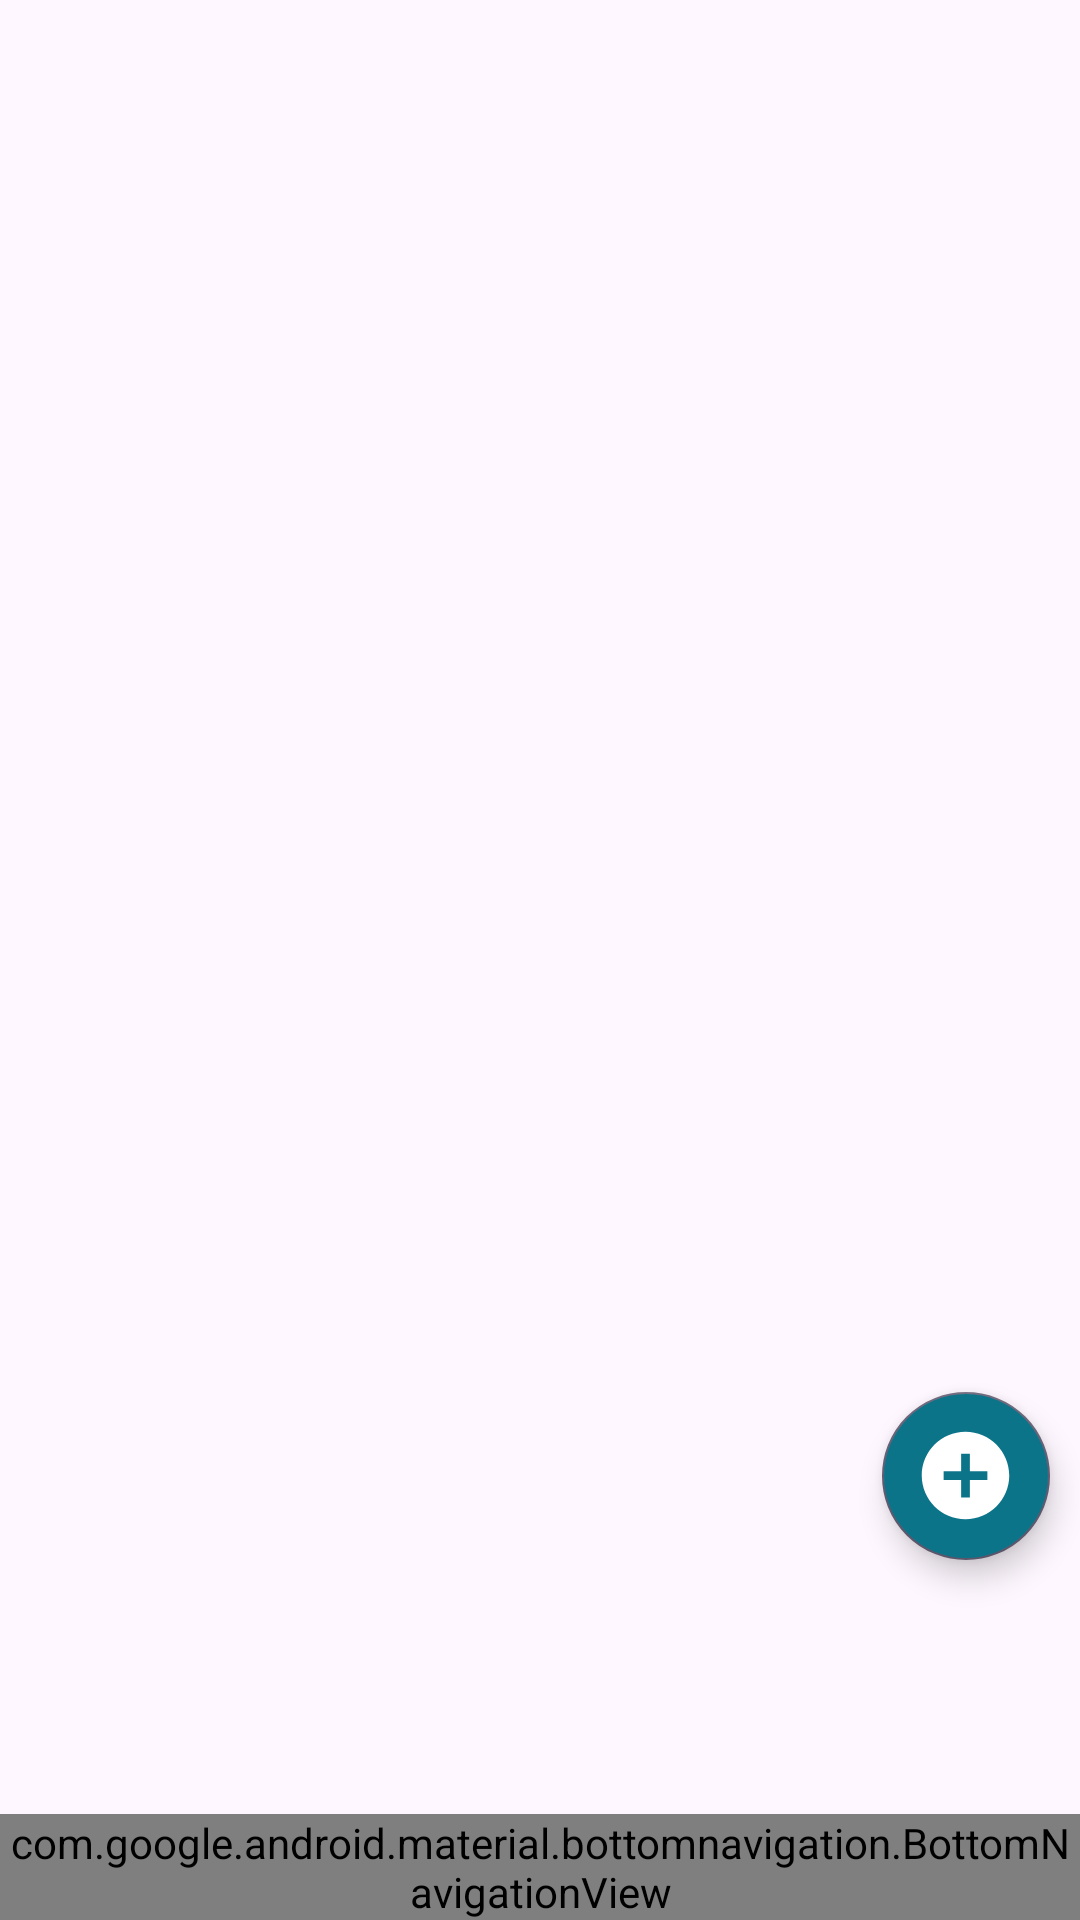

Icon bounding boxes for this 1080px×1920px phone screenshot, format (left=x1, top=y1, right=x2, bottom=y2):
add: (left=882, top=1392, right=1050, bottom=1560)
